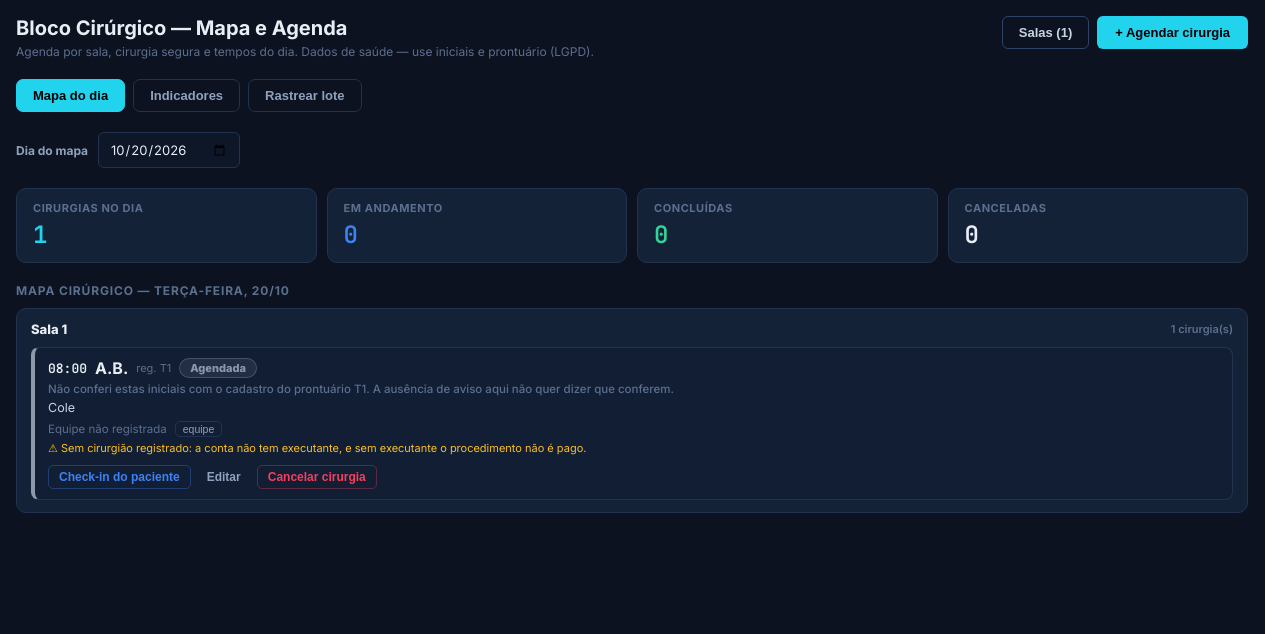
Scenario: 🔴 acrescentar membro carimba o CBO do cadastro › perfil sem CBO avisa na hora de escolher, não depois
Click the button "equipe".
click(198, 429)  # box x1=175 y1=421 x2=222 y2=437
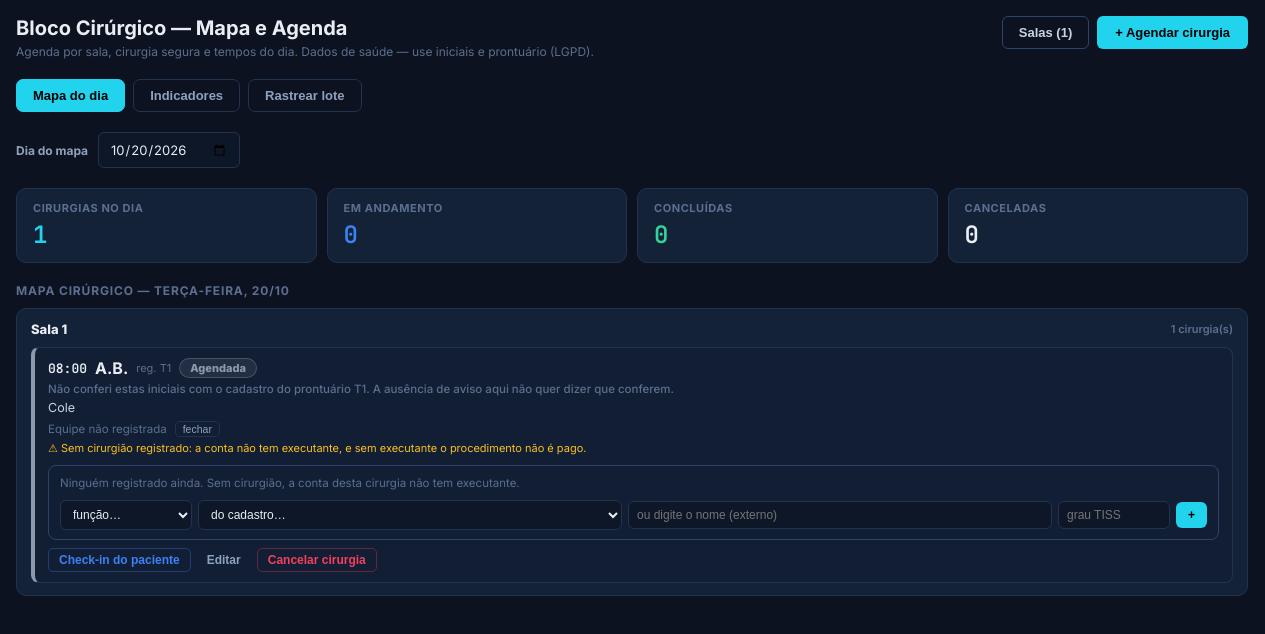
Select "Dr. Reis" in the dropdown named "Profissional do cadastro" at [410, 515], box x1=198 y1=500 x2=622 y2=530
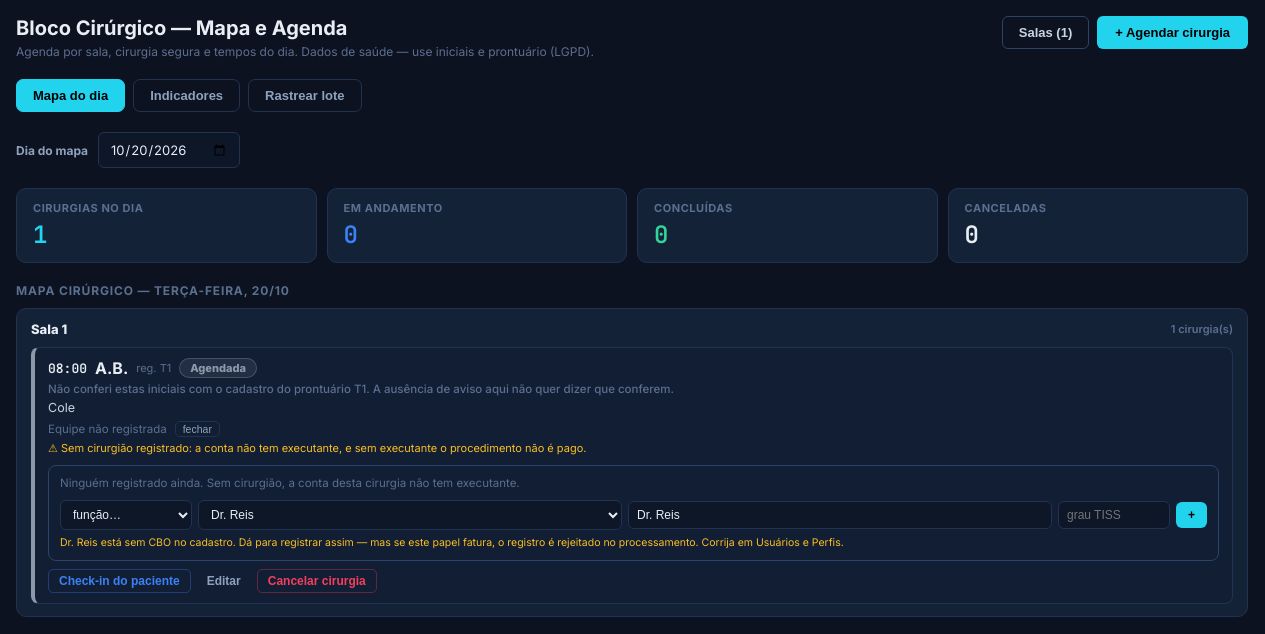
Expected: the text "Corrija em Usuários e Perfis" is shown, x1=98 y1=536 x2=844 y2=549
